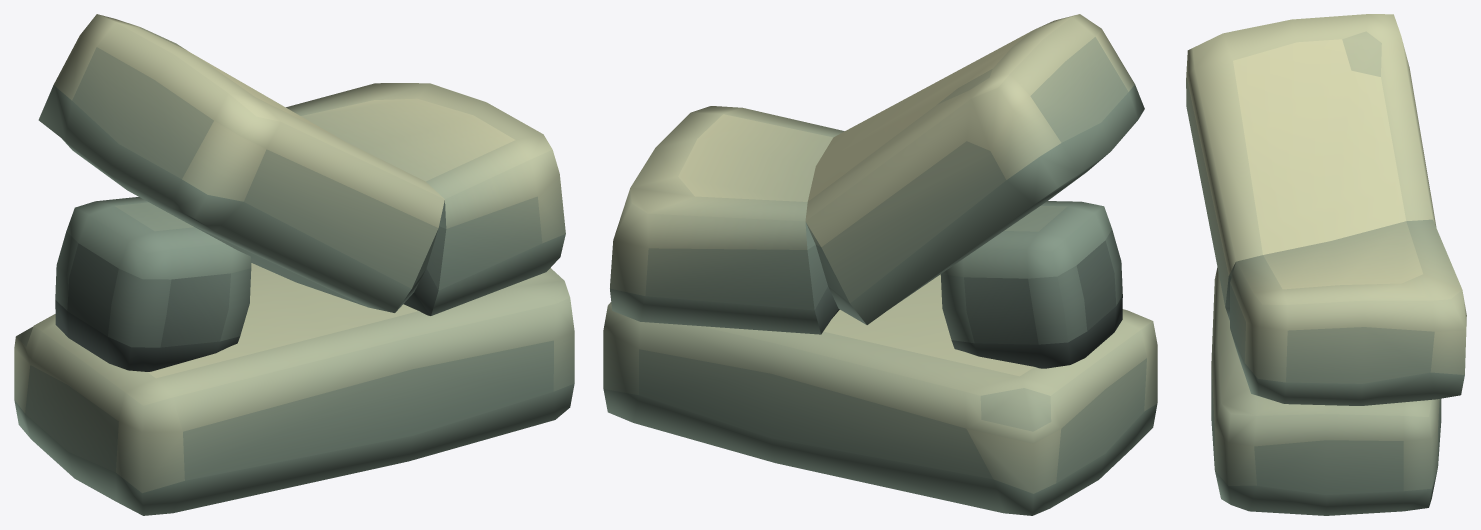
The model's file is rail4_stone1_LOD_group.fbx.
3 views of the same model, side by side, from view 1: azimuth 30°, elevation 25°; view 2: azimuth 150°, elevation 25°; view 3: azimuth 270°, elevation 25° (orthographic). The views are drawn at different scales.
Parts seen in each view (by area): view 1: rail4_stone1_LOD0; view 2: rail4_stone1_LOD0; view 3: rail4_stone1_LOD0.
Boxes of the visible parts, left/top/right/bottom form: rail4_stone1_LOD0: left=14, top=14, right=574, bottom=515; rail4_stone1_LOD0: left=603, top=14, right=1157, bottom=515; rail4_stone1_LOD0: left=1186, top=14, right=1466, bottom=515.
Size of what is drawn, in the model's own units: 110 by 97.43 by 69.59.
1 material, 1 textured.
